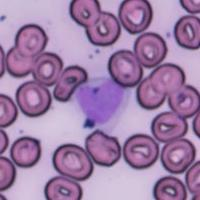M: (73, 77, 129, 127)
